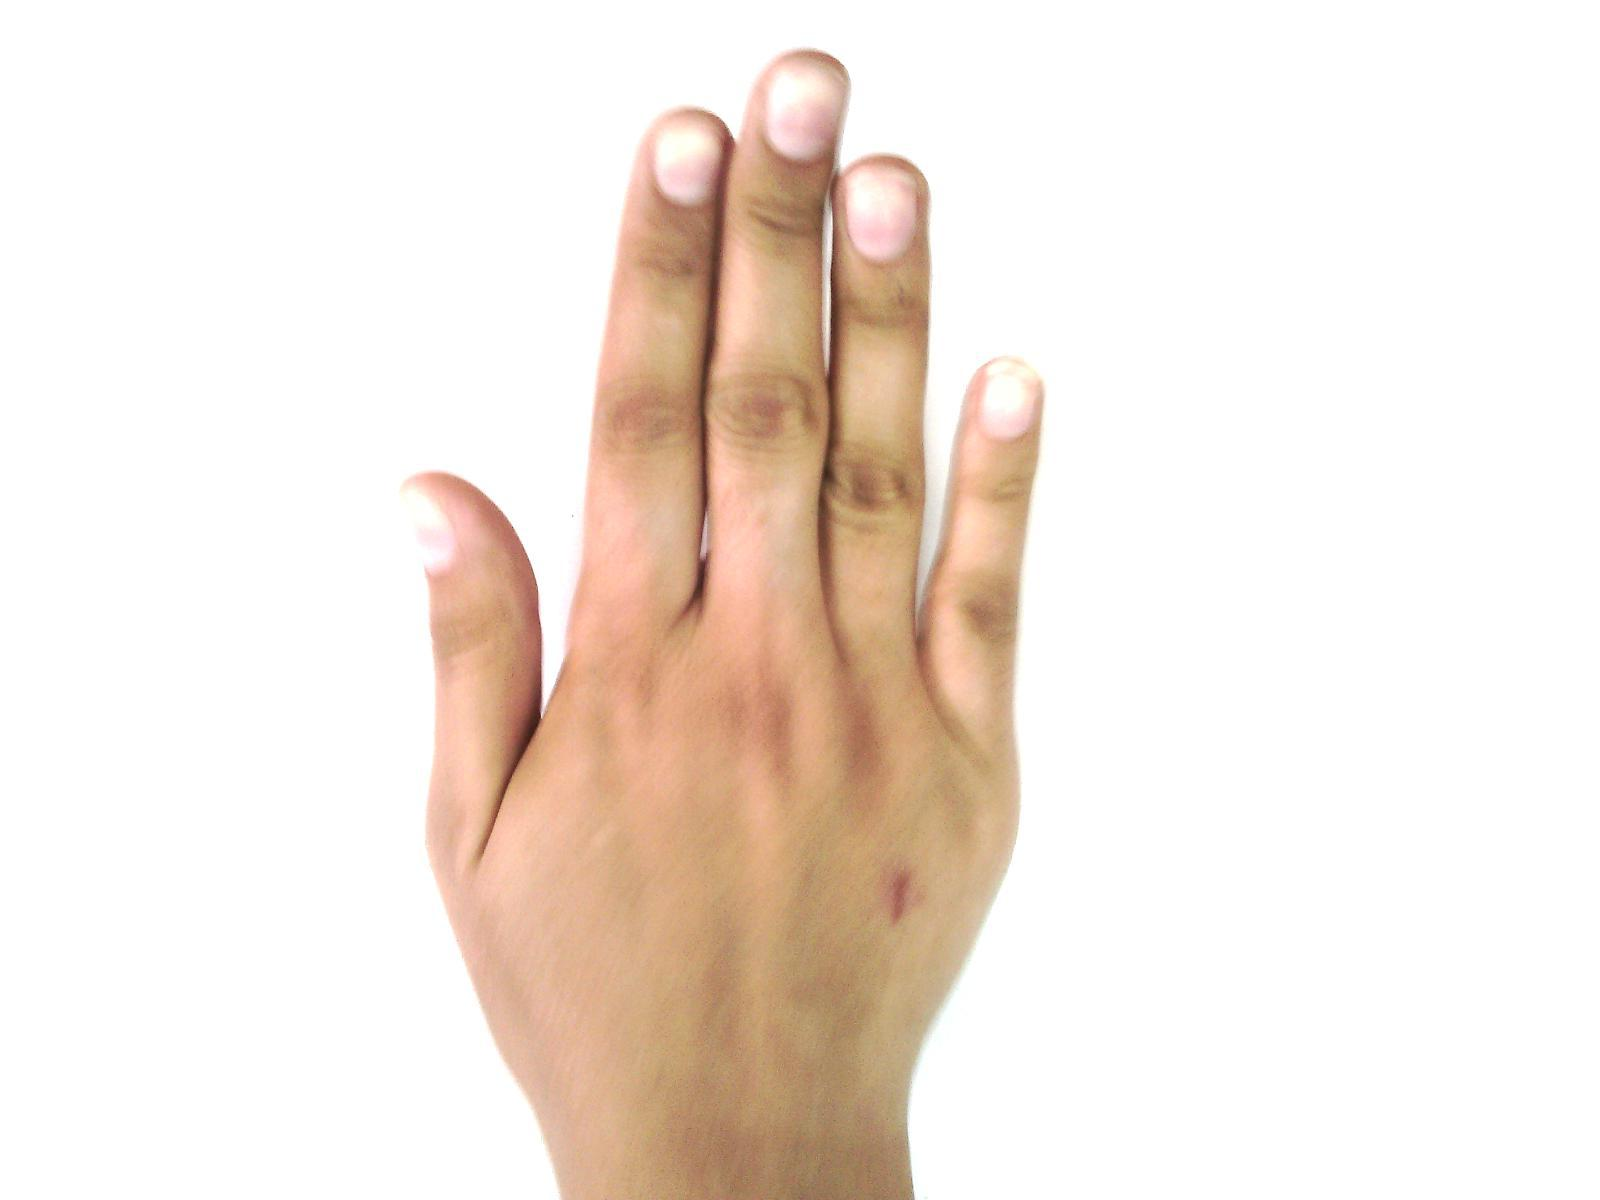hand: (411, 48, 1038, 1051)
